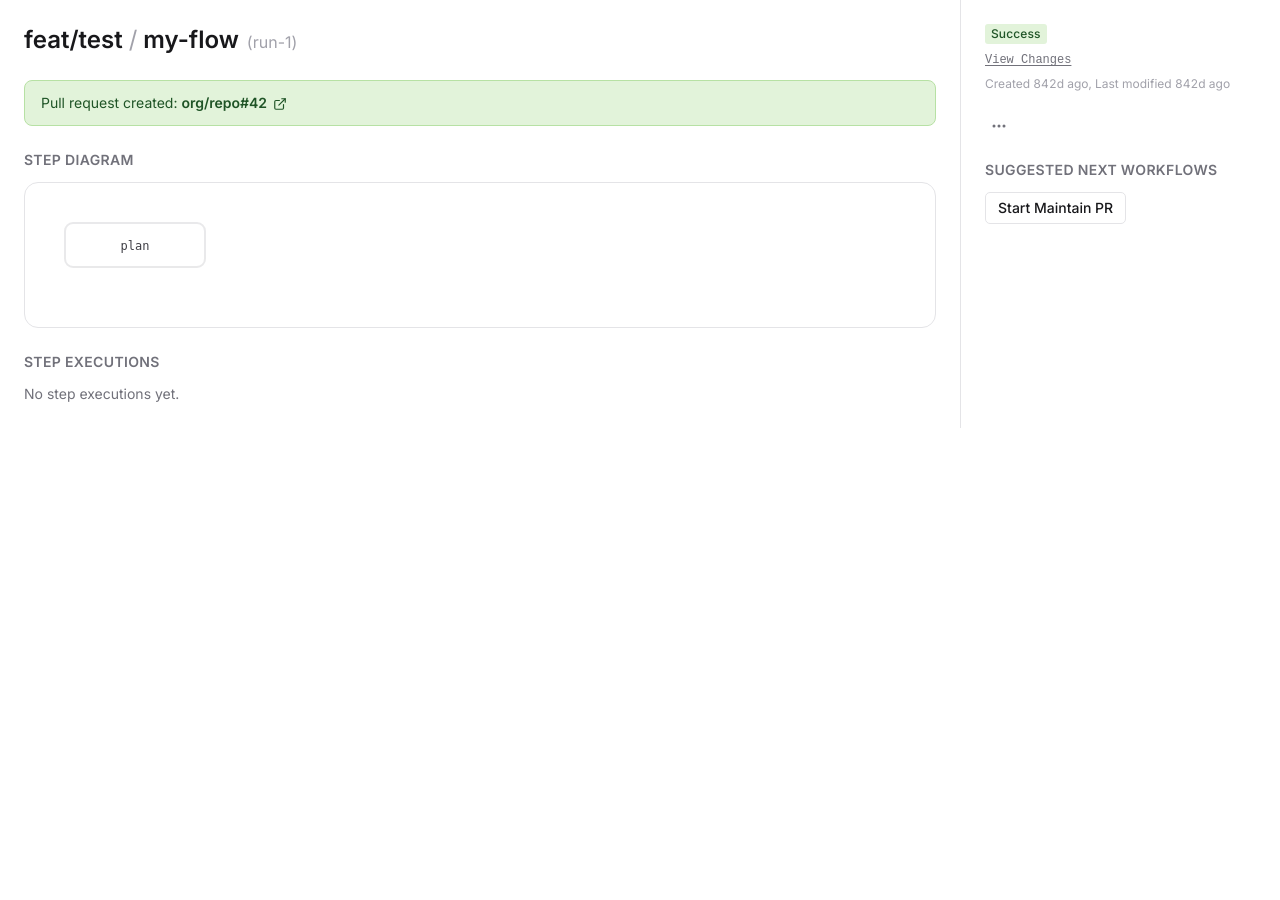
Test: WorkflowRunDetail › renders a suggested follow-up workflow when conditions match
Click the button "Start Maintain PR" at (1056, 208), box [985,192,1126,224]
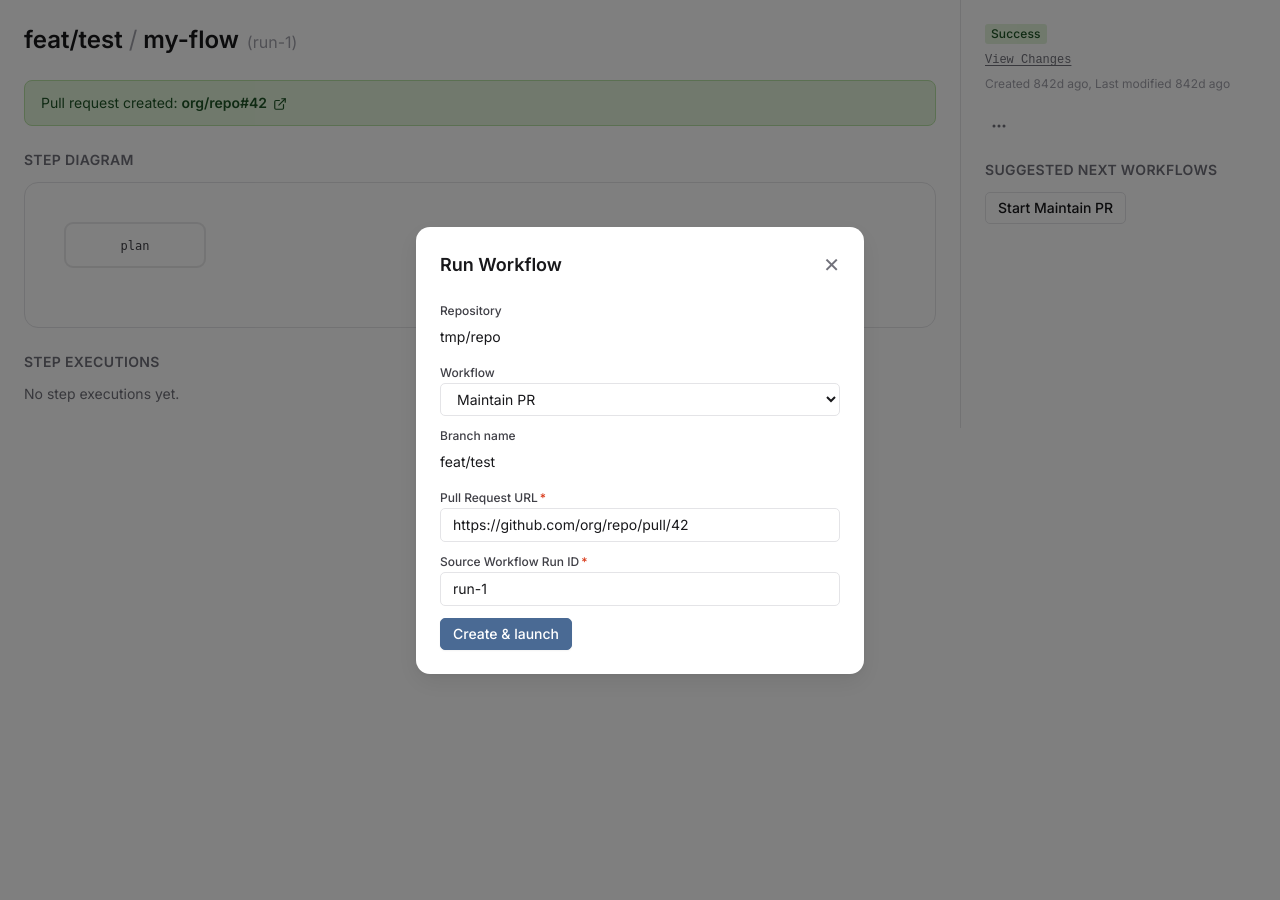
Now the dropdown labelled "Workflow" shows "Maintain PR", box [440,382,840,416]
Now the field showing "https://github.com/org/repo/pull/42" is shown, box [440,508,840,542]
Now the field showing "run-1" is shown, box [440,572,840,606]
